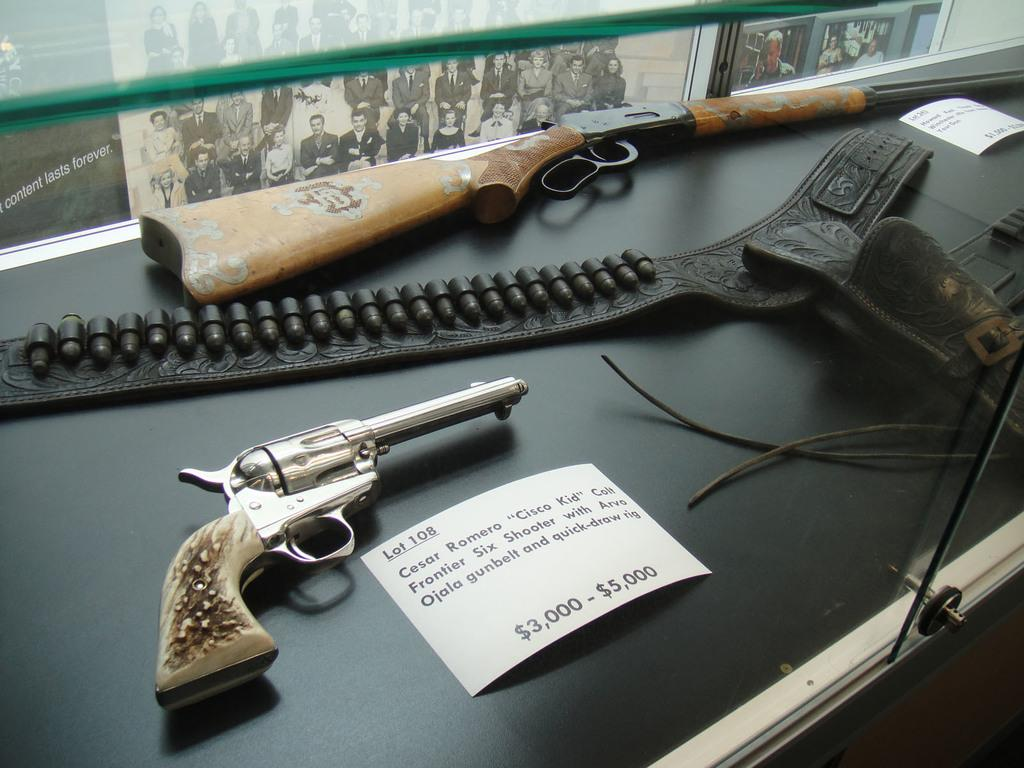Shotgun: (136, 58, 1023, 304), (155, 367, 531, 699)
